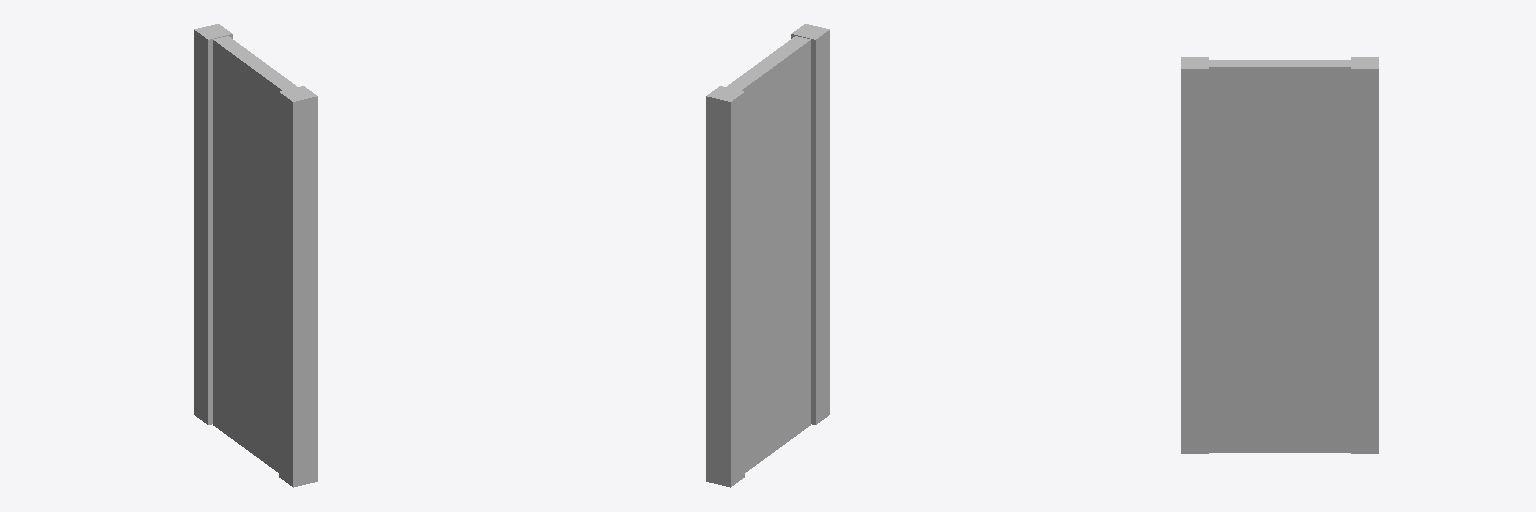
The model's file is dungeon_wall_high.obj.
3 renders of one model, left to right at view 1: azimuth 30°, elevation 25°; view 2: azimuth 150°, elevation 25°; view 3: azimuth 270°, elevation 25°, orthographic.
Parts seen in each view (by area): view 1: wall, pillar; view 2: wall, pillar; view 3: wall, pillar.
Part boxes in pixels (left/top/right/bottom): wall: left=213, top=36, right=296, bottom=472; pillar: left=194, top=24, right=317, bottom=487; wall: left=727, top=36, right=810, bottom=472; pillar: left=706, top=24, right=829, bottom=487; wall: left=1209, top=60, right=1350, bottom=452; pillar: left=1181, top=57, right=1378, bottom=453.
Bounding box in the file's own units: 1 × 15.03 × 7.